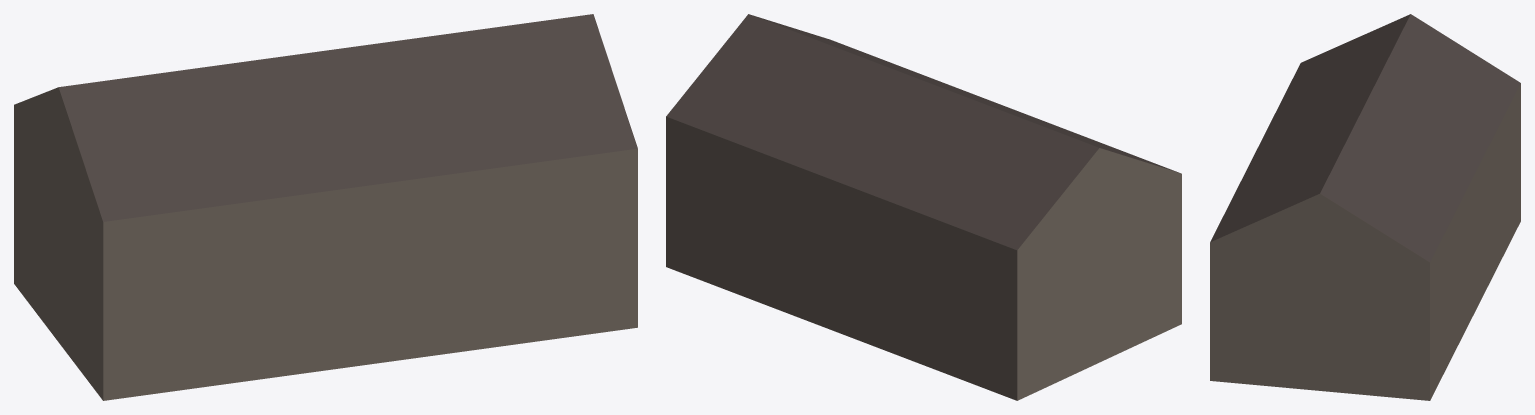
The picture shows the model from 3 angles, left to right: view 1: azimuth 30°, elevation 25°; view 2: azimuth 150°, elevation 25°; view 3: azimuth 270°, elevation 25°; orthographic projection. The views are drawn at different scales.
Visible parts, largest first — view 1: HP-w859488862; view 2: HP-w859488862; view 3: HP-w859488862.
Part boxes in pixels (x1=…): HP-w859488862: x1=14, y1=14, x2=637, y2=400; HP-w859488862: x1=666, y1=14, x2=1181, y2=400; HP-w859488862: x1=1210, y1=14, x2=1520, y2=400.
Bounding box in the file's own units: 27.86 × 12.83 × 18.33.
